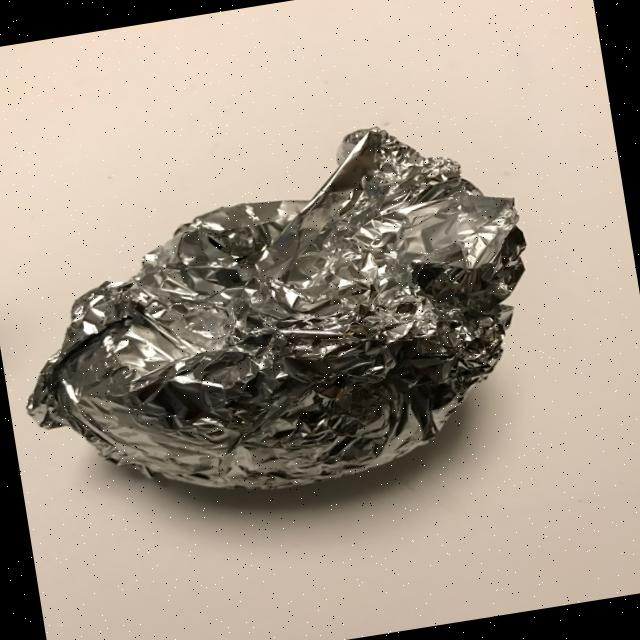metal: (0, 105, 559, 527)
